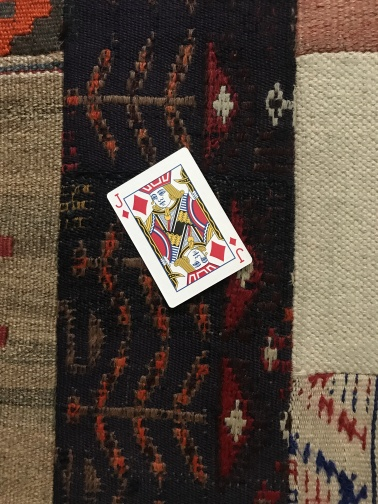jack: (105, 146, 254, 310)
